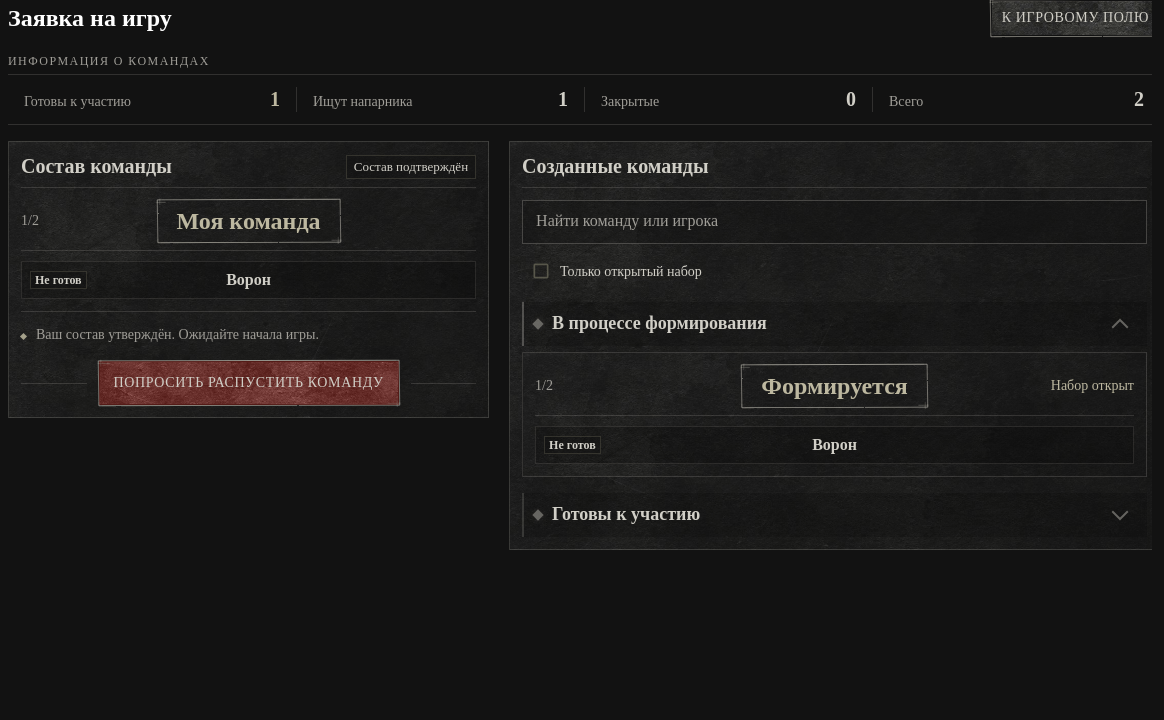
Scenario: Application decisions › groups confirmed and forming teams and removes redundant slot and own-team labels
Click the button with aria-label "Готовы к участию (1 команда)".
click(626, 514)  # box [522,493,1147,537]
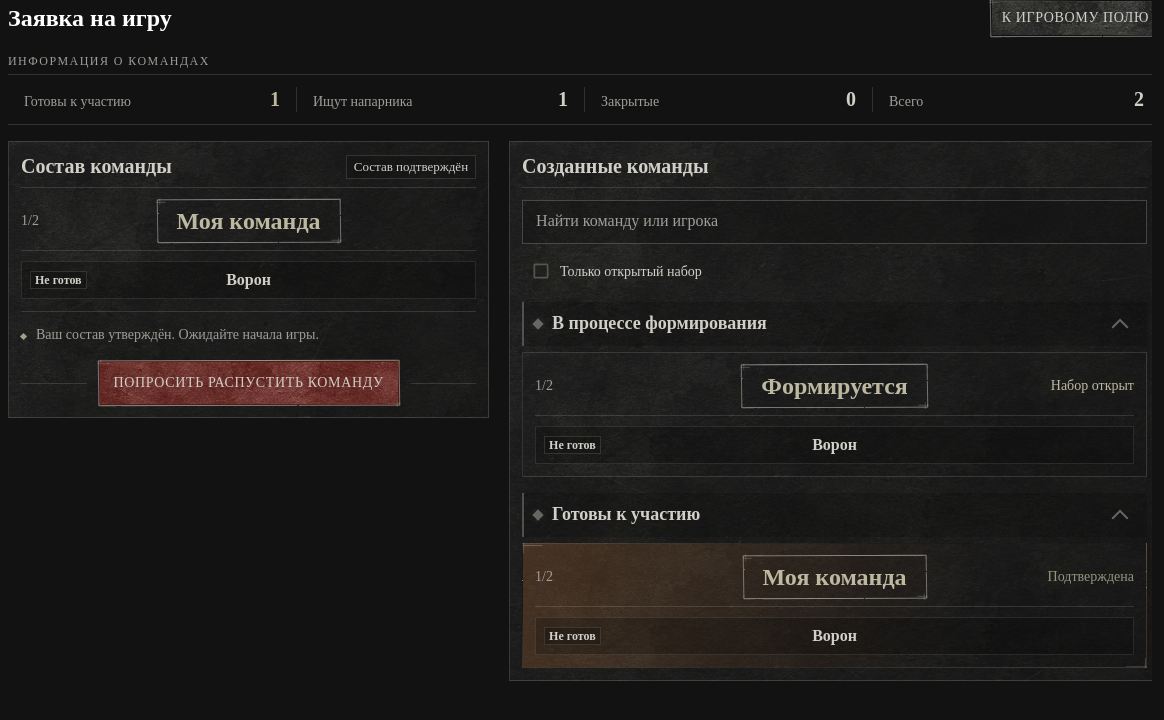
expect the element "Формируется" is shown: met, box [522,352,1147,477]
expect the button with aria-label "Готовы к участию (1 команда)" is expanded: met, box [522,493,1147,537]
expect the element "Моя команда" is shown: met, box [522,543,1147,668]
Click the button "В процессе формирования".
click(659, 323)  # box [522,302,1147,346]
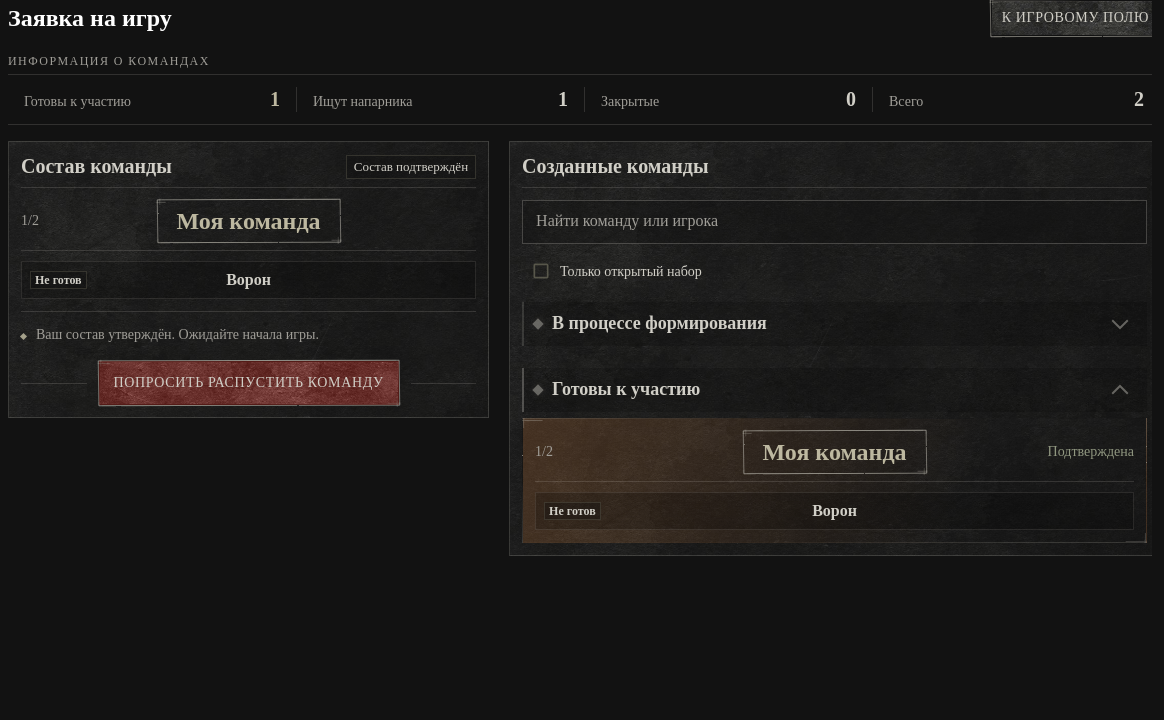
expect the button "В процессе формирования" is collapsed: met
Click the button "В процессе формирования".
click(659, 323)  # box [522,302,1147,346]
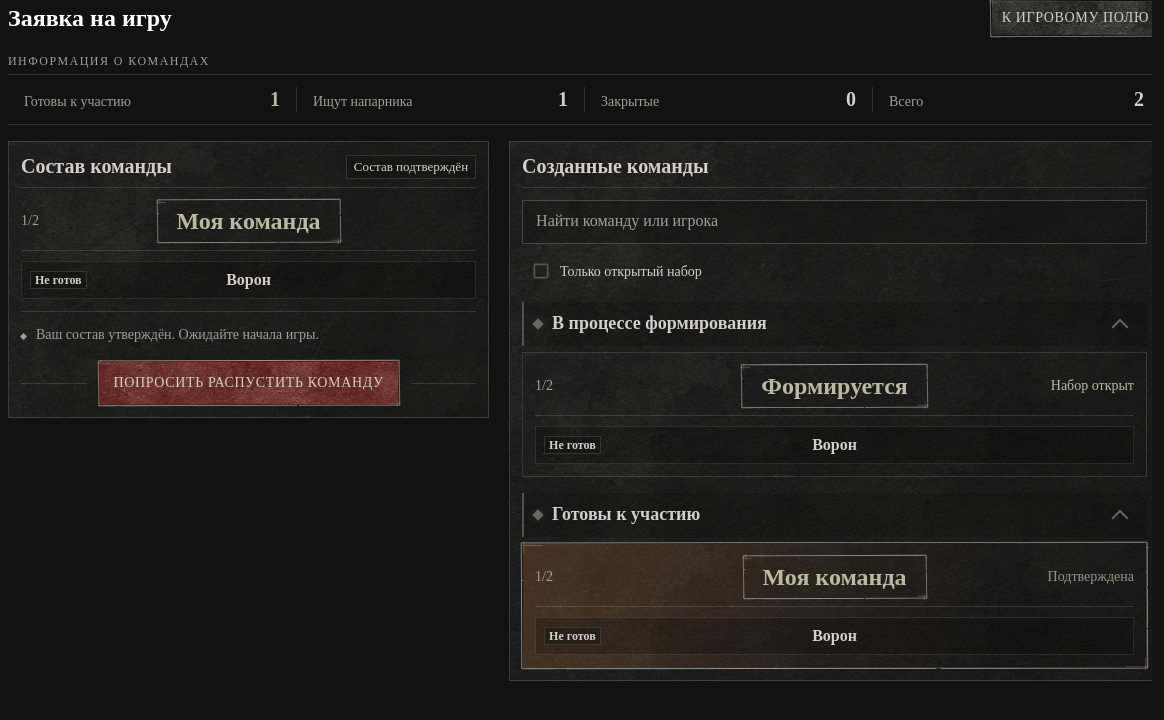
expect the button "В процессе формирования" is expanded: met, box [522,302,1147,346]
